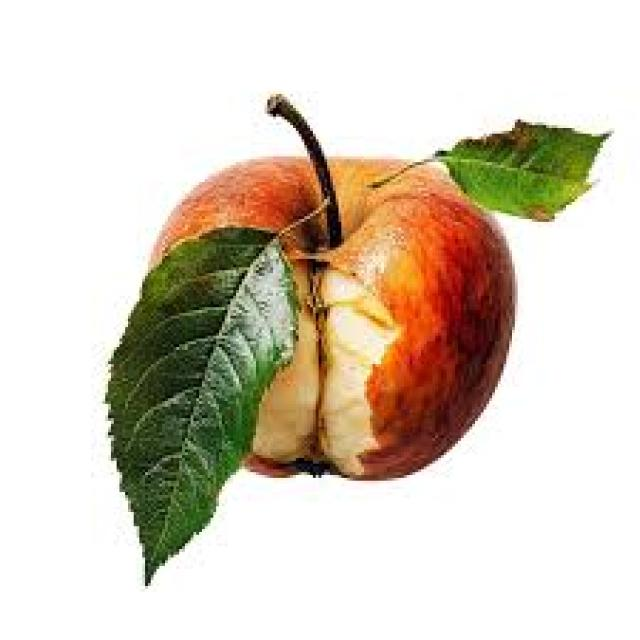Rotten Apple: (154, 156, 516, 480)
